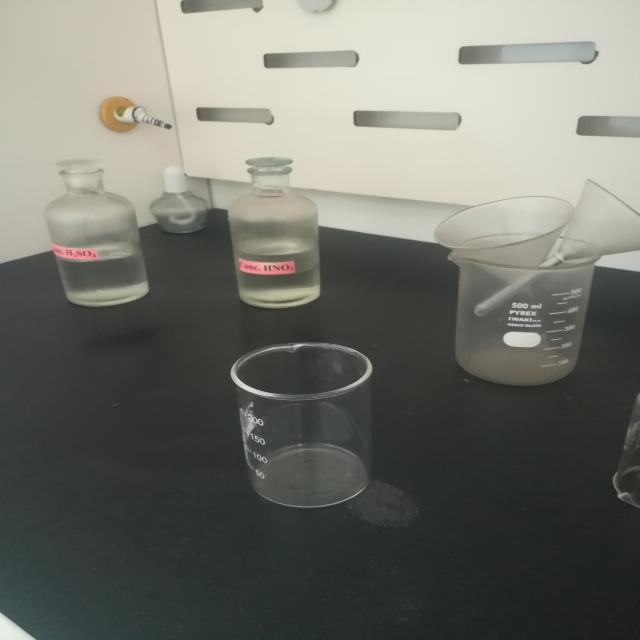Beaker: (205, 328, 395, 548), (424, 264, 612, 396)
